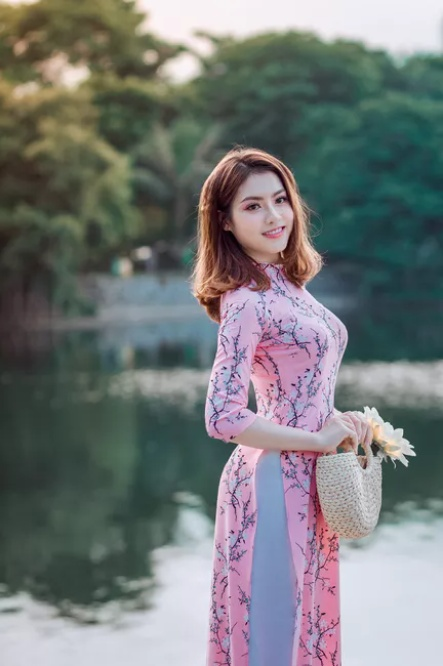face: (232, 171, 294, 252)
